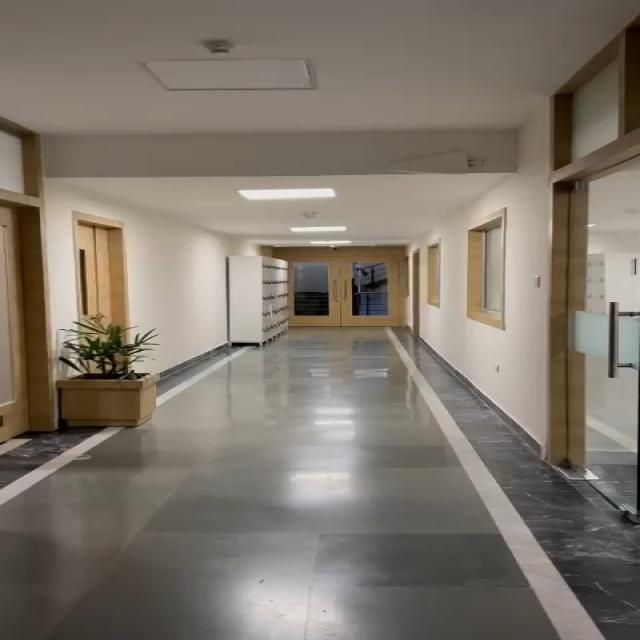door: (531, 99, 640, 498), (0, 106, 48, 438), (291, 250, 430, 334), (59, 224, 136, 342)
floor: (0, 444, 640, 640), (262, 337, 447, 455)
furniture: (42, 308, 158, 442)
wall: (432, 224, 548, 386), (126, 216, 232, 362)
